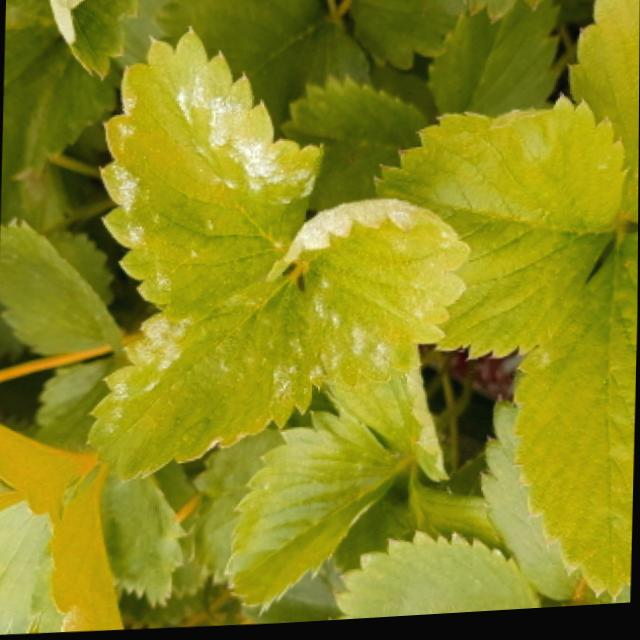Powdery Mildew Leaf: (99, 28, 324, 326), (84, 274, 336, 487), (285, 204, 472, 392), (48, 0, 137, 83)
